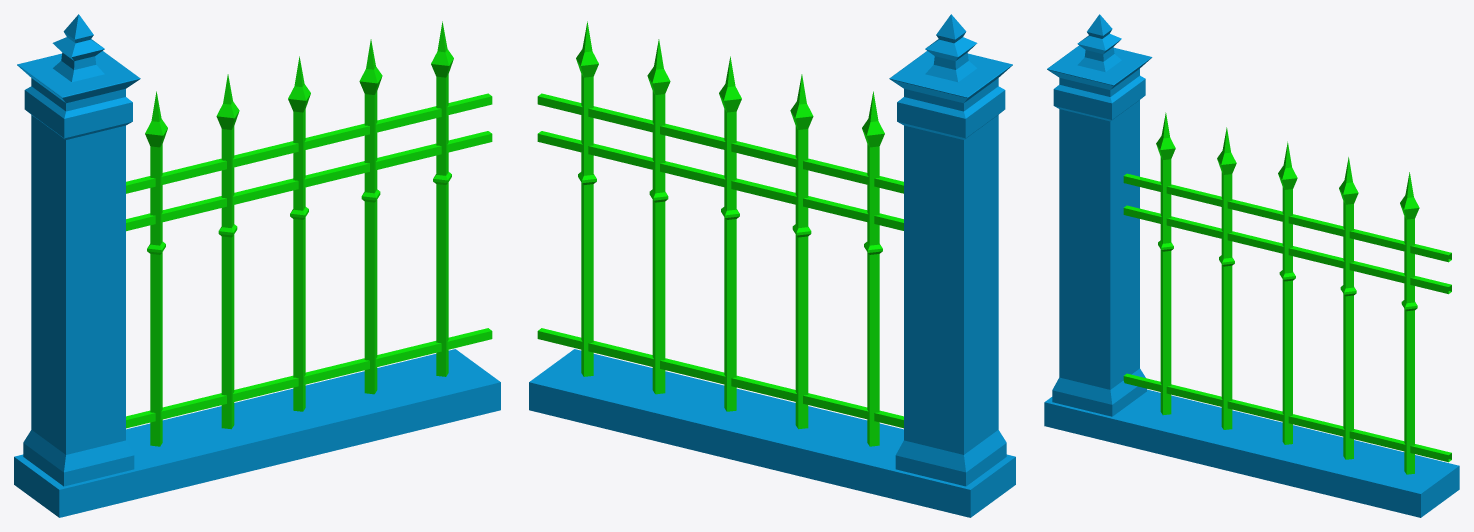
The model's file is graveyard_fence.fbx.
3 renders of one model, left to right at view 1: azimuth 30°, elevation 25°; view 2: azimuth 150°, elevation 25°; view 3: azimuth 330°, elevation 25°, orthographic. The views are drawn at different scales.
Parts seen in each view (by area): view 1: fence; view 2: fence; view 3: fence.
Boxes of the visible parts, <box> form: fence: <box>14,14,500,517</box>; fence: <box>529,14,1015,517</box>; fence: <box>1044,14,1459,517</box>.
Size of the model in its own units: 127 by 128 by 22.
